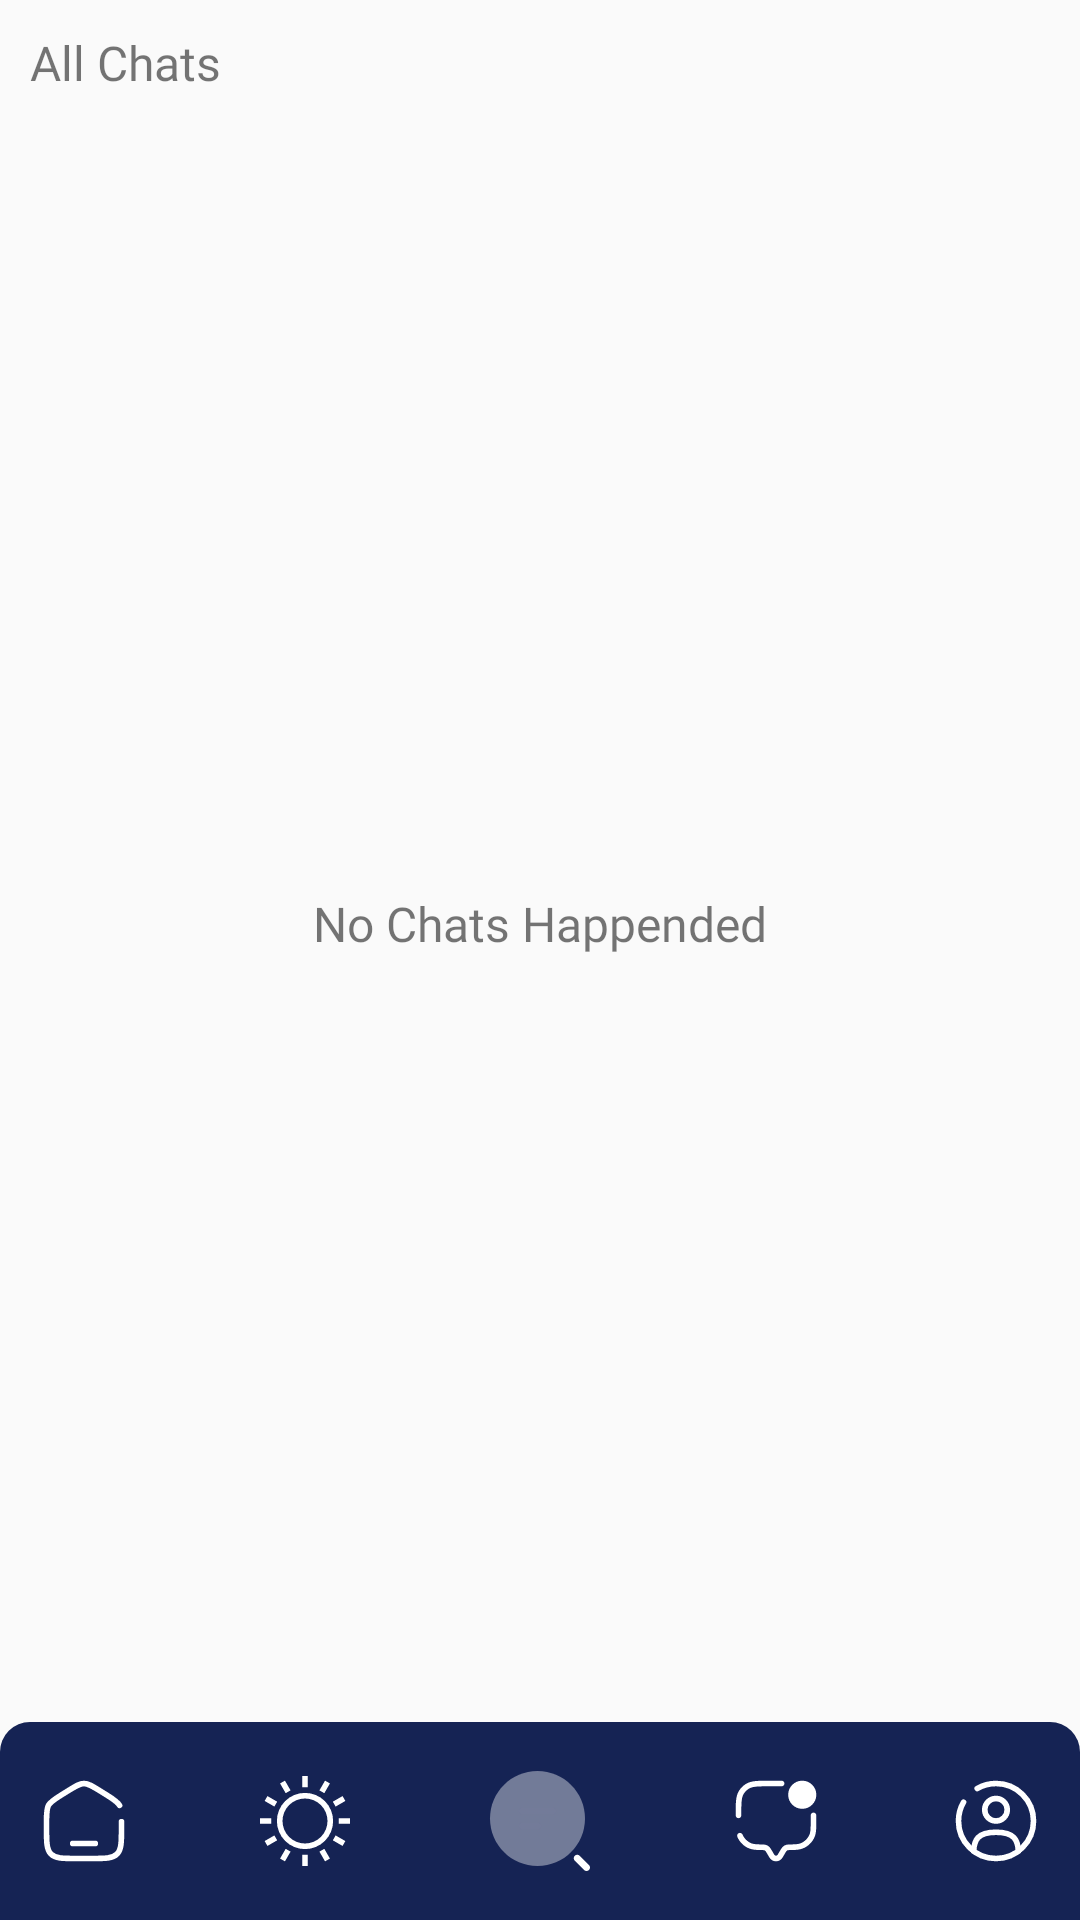

Icon click points for this 1080w x 1920h phone screenshot, format (x,y):
chat: (776,1821)
home: (84,1821)
search ai: (540,1821)
user: (996,1821)
weather: (305,1821)
